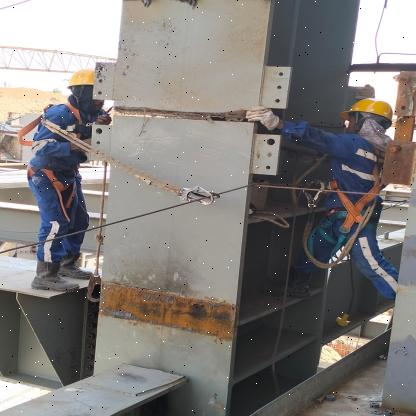bota: (261, 266, 314, 300), (30, 260, 80, 294), (59, 248, 95, 280)
